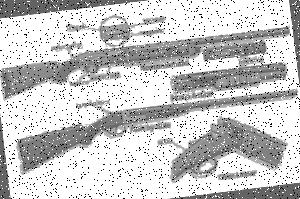shotgun: (17, 84, 300, 174), (0, 20, 293, 100), (157, 113, 297, 187), (163, 55, 293, 95)
